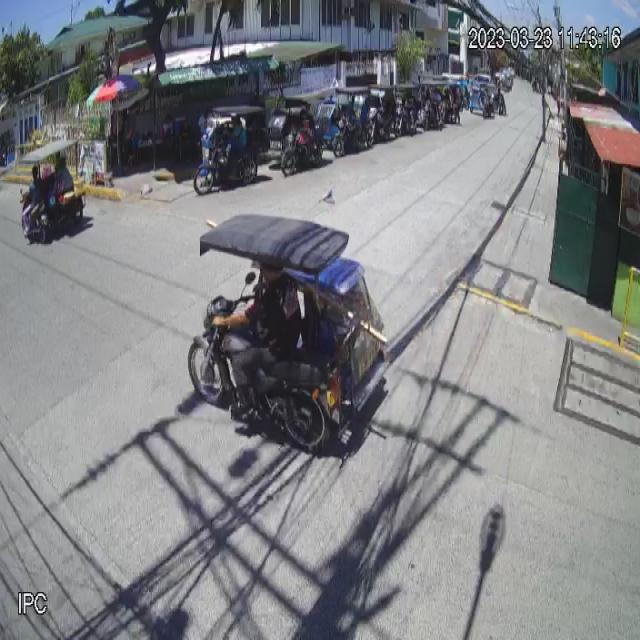Tricycle: (188, 211, 391, 456)
